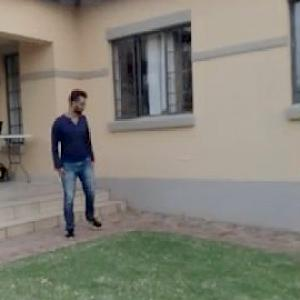follow: (52, 80, 100, 247)
